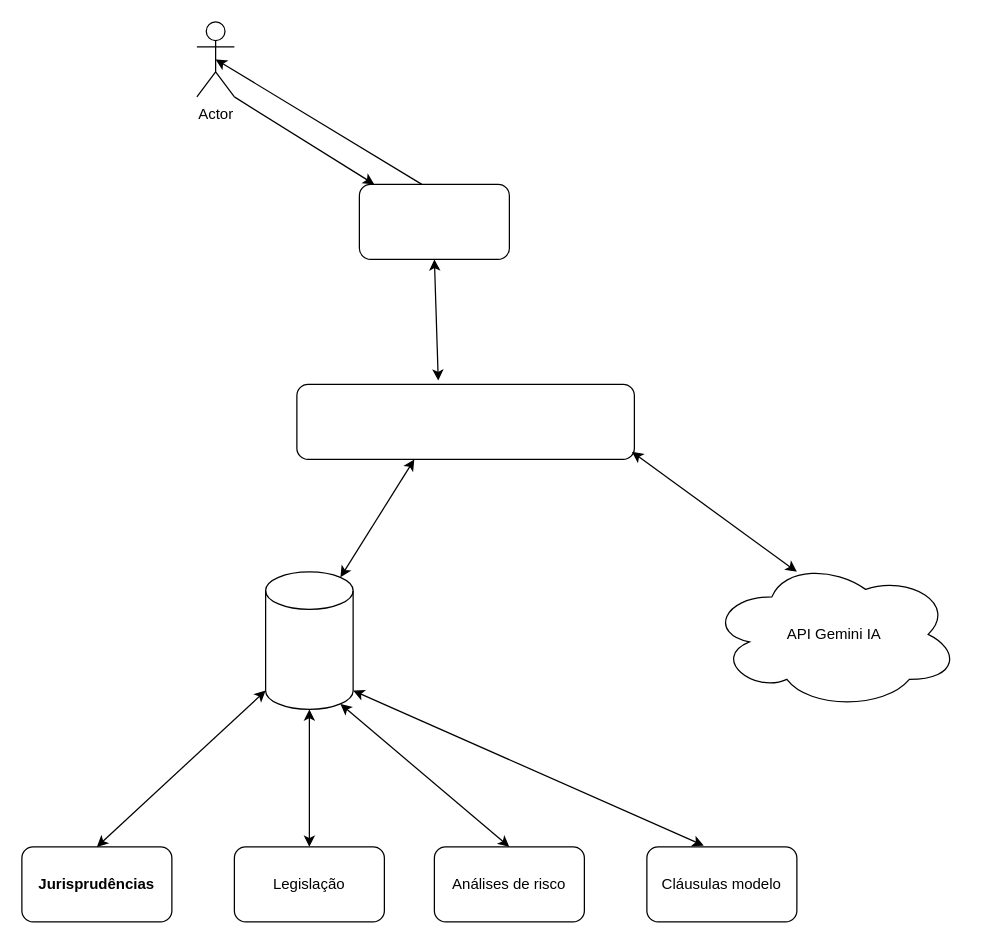
The diagram is 981 pixels wide and 944 high, and some of its shapes have lost their labels. The shapes that lost their labels are listed below. From the top down, each one's centre as x and y in pixels, then its label:
[433,221]: Front Códice
[465,421]: API Códice Jurídico (FastAPI + LLAMA-INDEX + LangChain)
[308,640]: Vector DB (weaviate)
